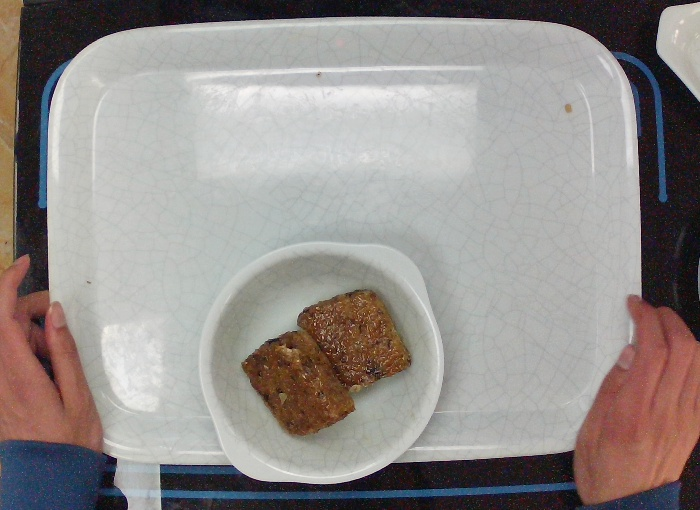JYsf-Shuang_Er_Wan: (196, 237, 446, 485)
